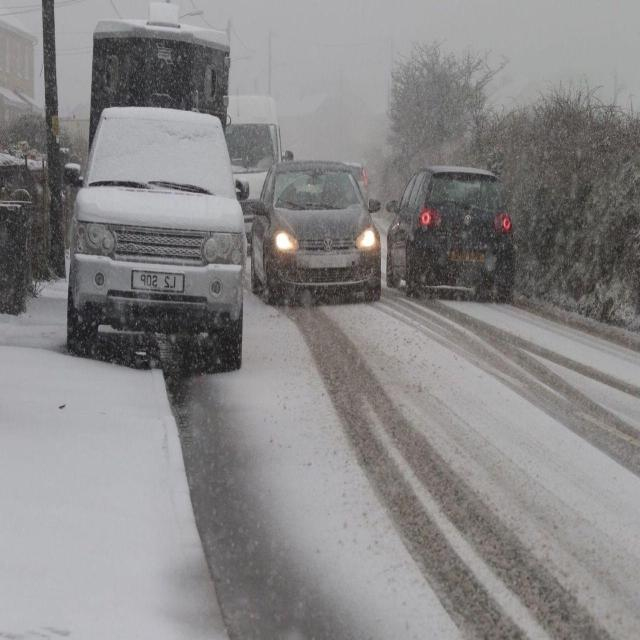Car: (248, 158, 386, 307), (388, 160, 517, 298)
Truck: (60, 10, 252, 358)
